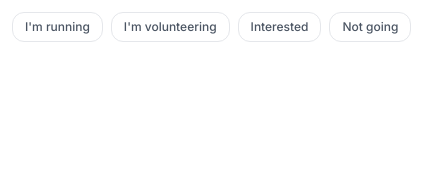
it: RsvpControls › shows an error and leaves state untouched when the save fails
Click the button "I'm running": (57, 27) [12,12,103,42]
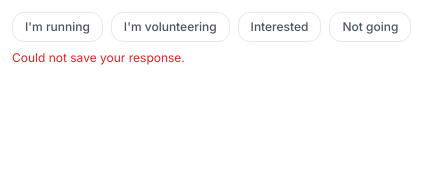
Expected: the text "Could not save your response." is shown, [12,50,185,65]
